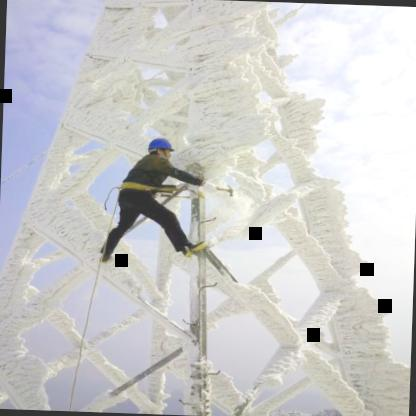helmet: (142, 134, 178, 164)
